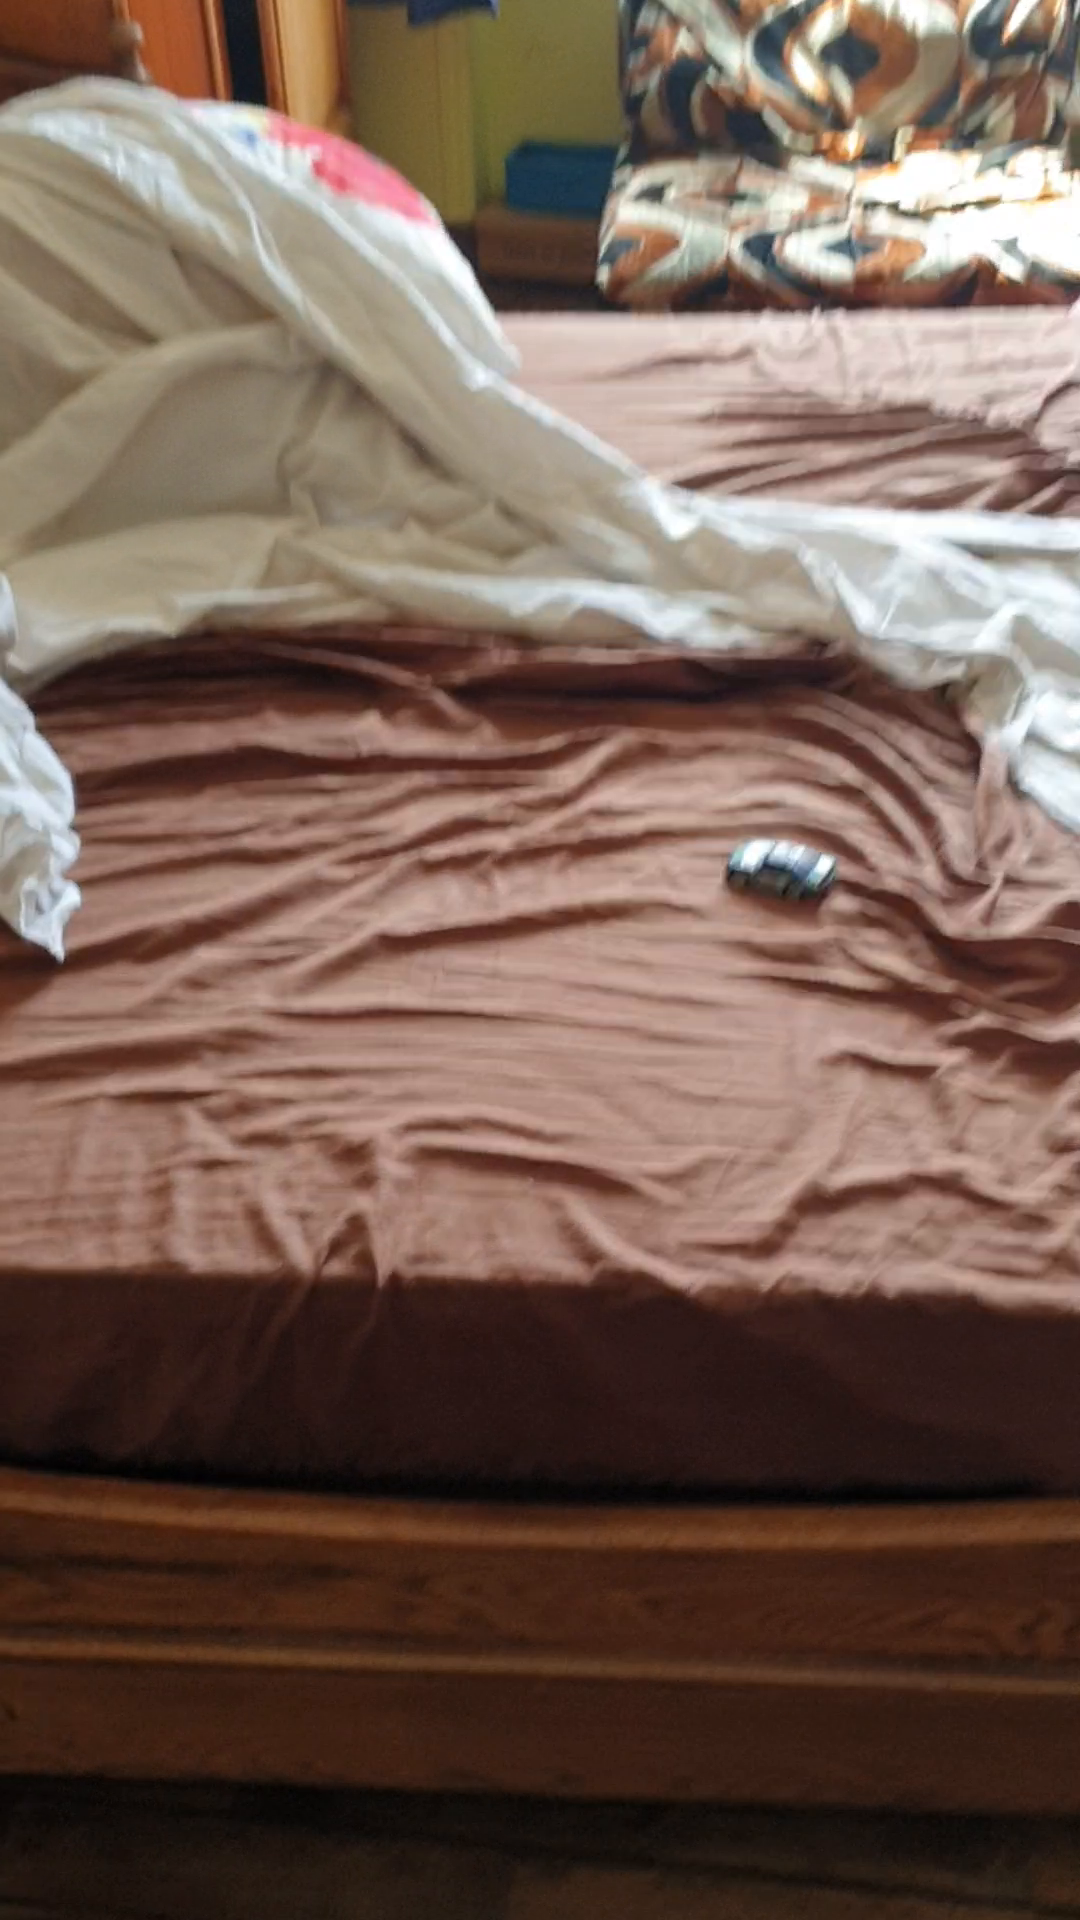cars: (725, 837, 836, 898)
